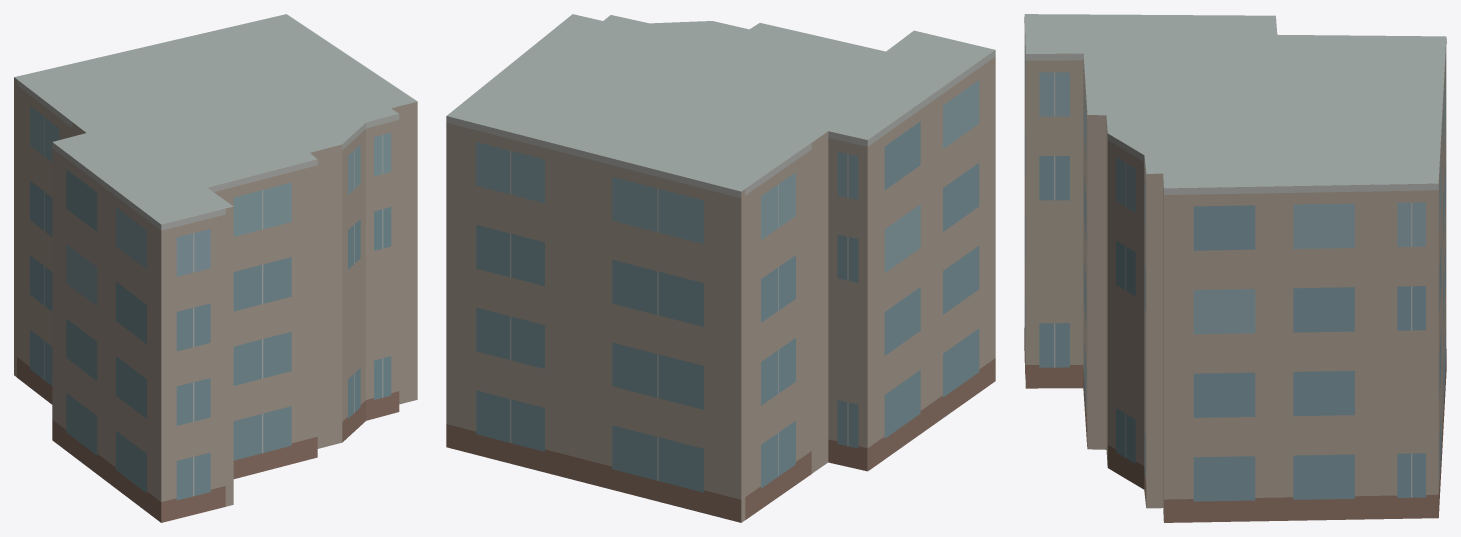
File: survey-upis-32846634.glb
3 renders of one model, left to right at view 1: azimuth 30°, elevation 25°; view 2: azimuth 150°, elevation 25°; view 3: azimuth 270°, elevation 25°, orthographic. The views are drawn at different scales.
Visible parts, largest first — view 1: survey-upis-32846634.tmp; view 2: survey-upis-32846634.tmp; view 3: survey-upis-32846634.tmp.
Part boxes in pixels (bbox=[...]): survey-upis-32846634.tmp: bbox=[14, 14, 417, 522]; survey-upis-32846634.tmp: bbox=[446, 14, 995, 522]; survey-upis-32846634.tmp: bbox=[1024, 14, 1446, 522].
Size of the model in its own units: 13.54 by 12.1 by 13.84.
